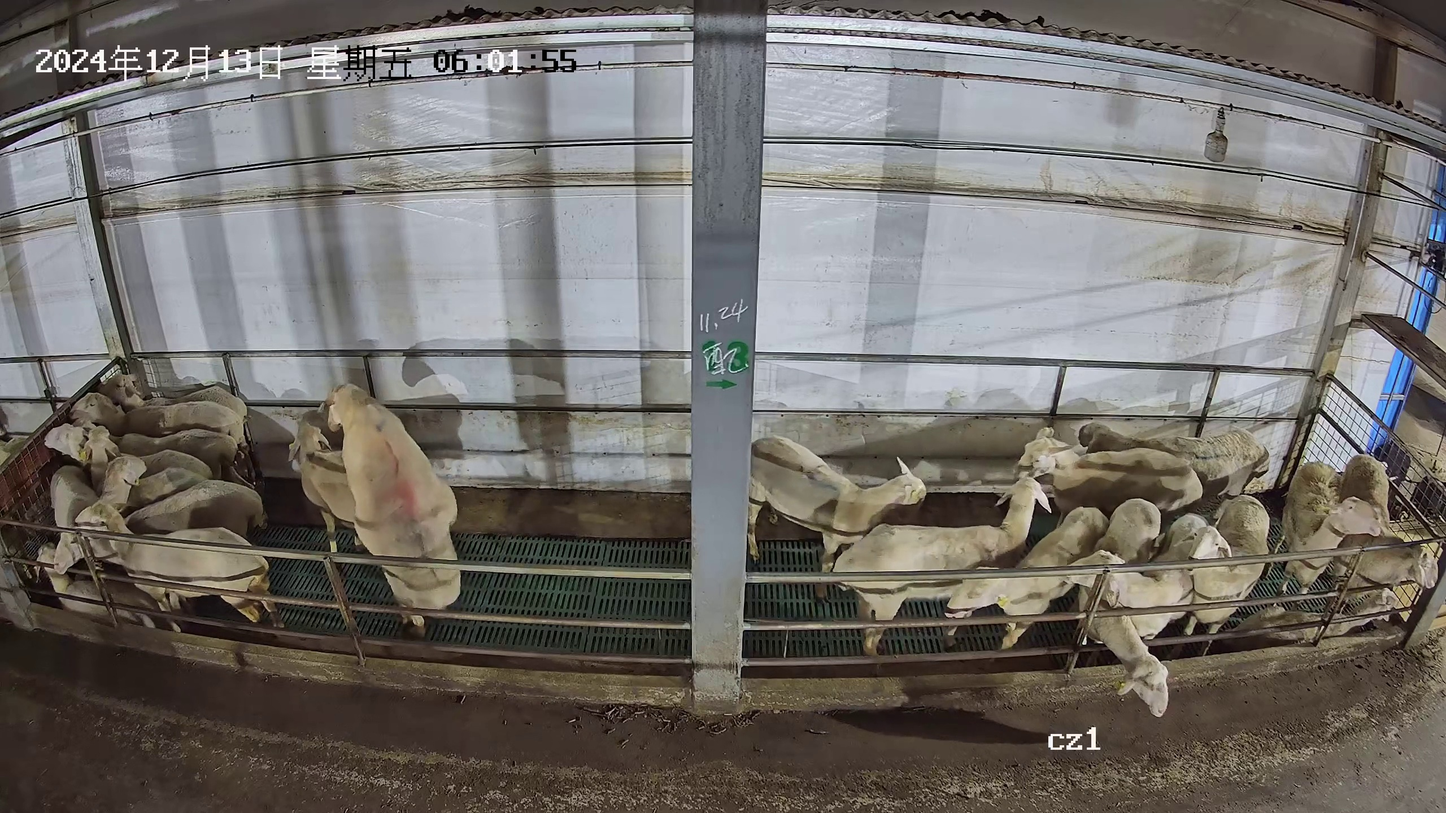Smounting: (281, 380, 464, 640)
mounted: (286, 417, 368, 550)
